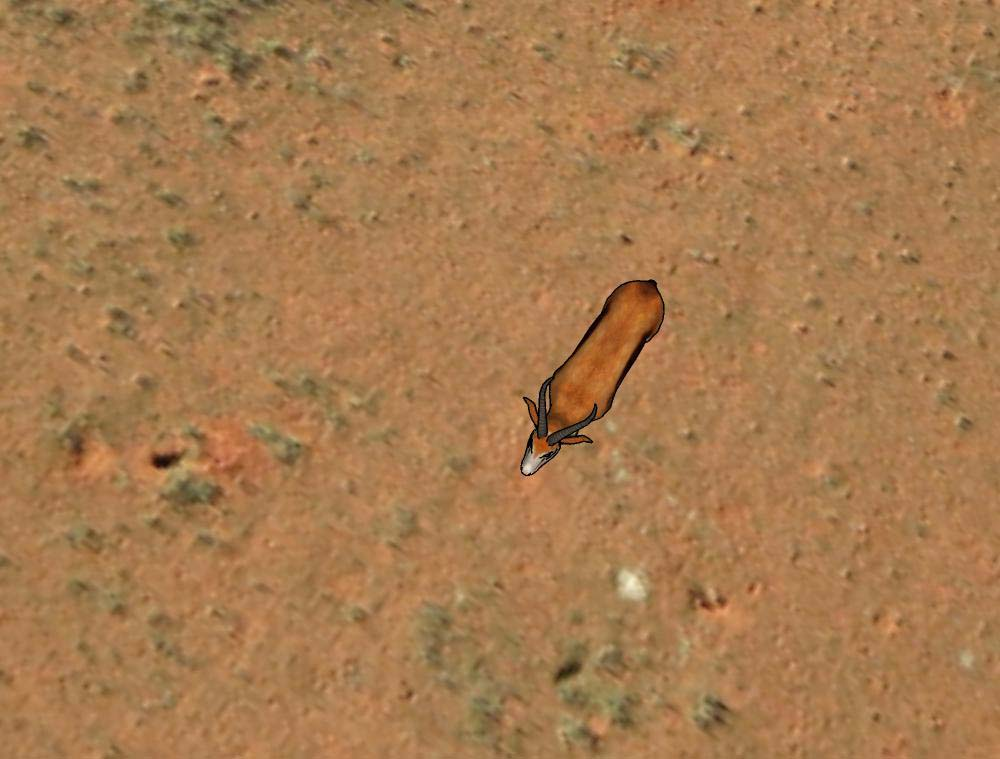springbok: (509, 269, 668, 481)
